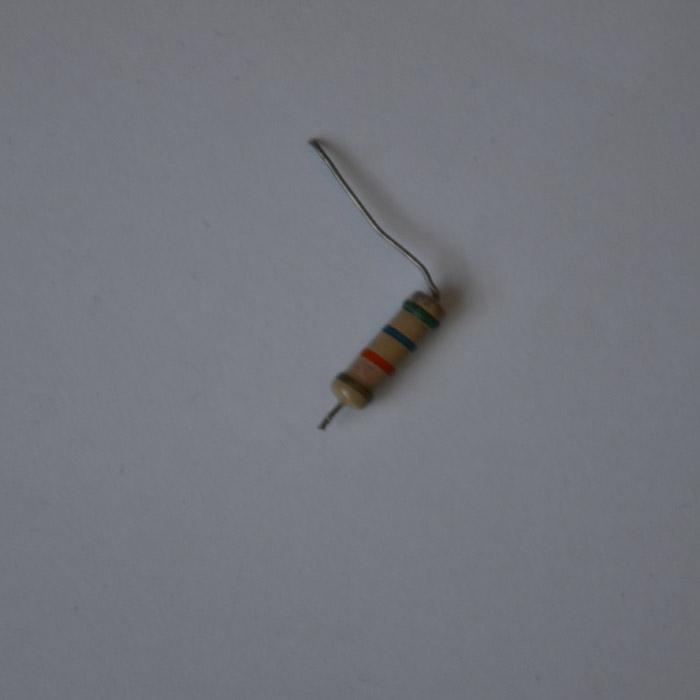resistor: (329, 288, 445, 411)
